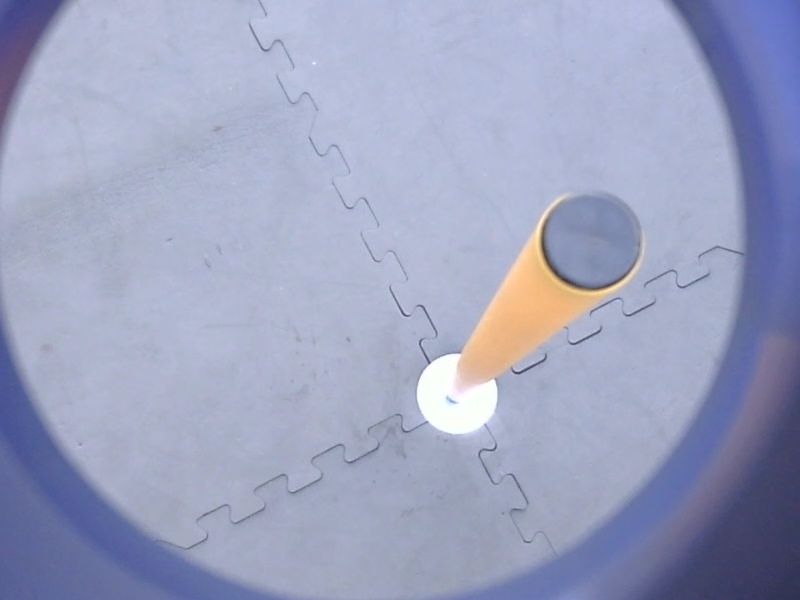tip: (531, 183, 651, 300)
